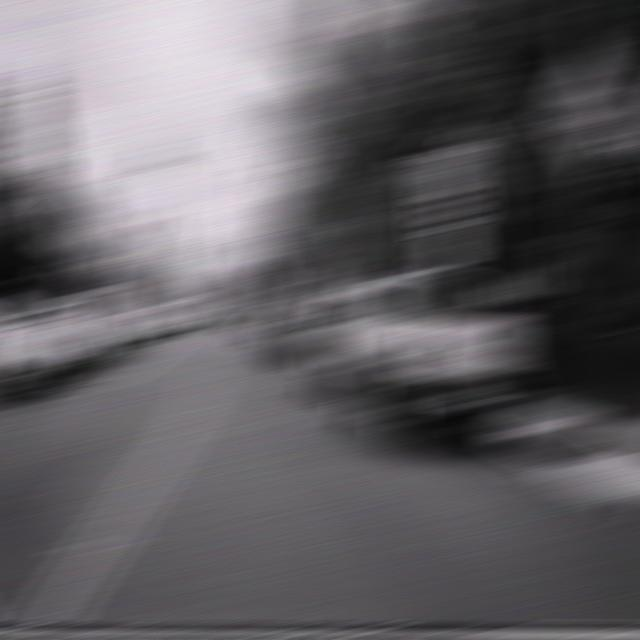speedLimit25: (417, 146, 479, 234)
